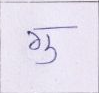u_matra: (36, 47, 59, 65)
